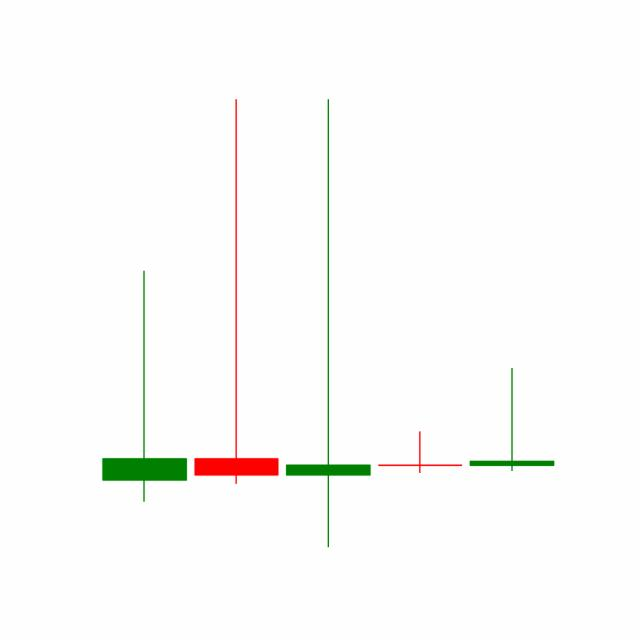Hammer: (373, 429, 467, 474)
